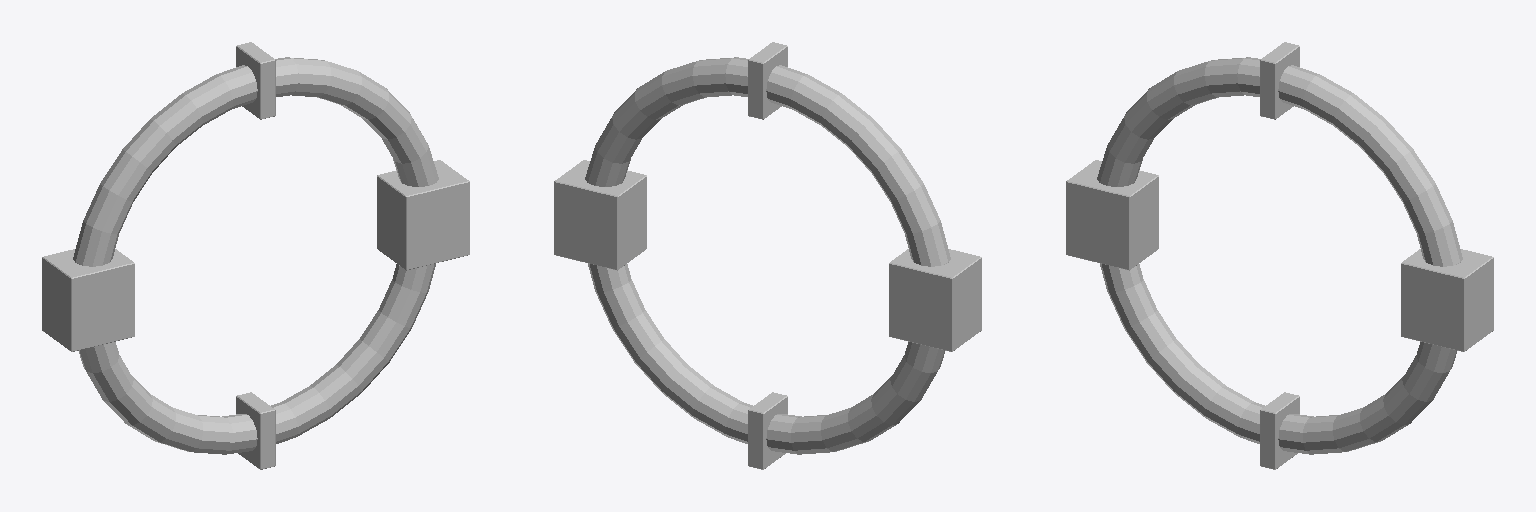
The model's file is ring.obj.
3 renders of one model, left to right at view 1: azimuth 30°, elevation 25°; view 2: azimuth 150°, elevation 25°; view 3: azimuth 330°, elevation 25°, orthographic.
Visible parts, largest first — view 1: Torus1, Cube2, Cube2_copy3, Cube4_copy5, Cube4; view 2: Torus1, Cube2, Cube2_copy3, Cube4_copy5, Cube4; view 3: Torus1, Cube2_copy3, Cube2, Cube4_copy5, Cube4.
Part boxes in pixels (x1,y1,x2,y2): Torus1: (73, 57, 438, 454); Cube2: (377, 160, 469, 270); Cube2_copy3: (42, 249, 134, 351); Cube4_copy5: (236, 392, 275, 469); Cube4: (236, 42, 275, 119); Torus1: (585, 57, 950, 454); Cube2: (554, 160, 646, 270); Cube2_copy3: (889, 249, 981, 351); Cube4_copy5: (748, 392, 787, 469); Cube4: (748, 42, 787, 119); Torus1: (1097, 57, 1462, 454); Cube2_copy3: (1066, 160, 1158, 270); Cube2: (1401, 249, 1493, 351); Cube4_copy5: (1260, 392, 1299, 469); Cube4: (1260, 42, 1299, 119).
Bounding box in the file's own units: 2.38 × 2.33 × 0.308.